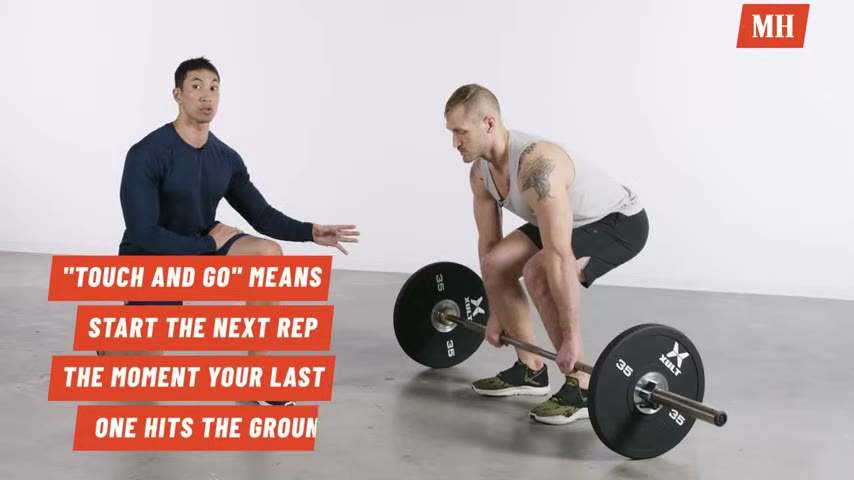barbell_plate_side: (388, 264, 477, 465), (645, 313, 729, 467)
